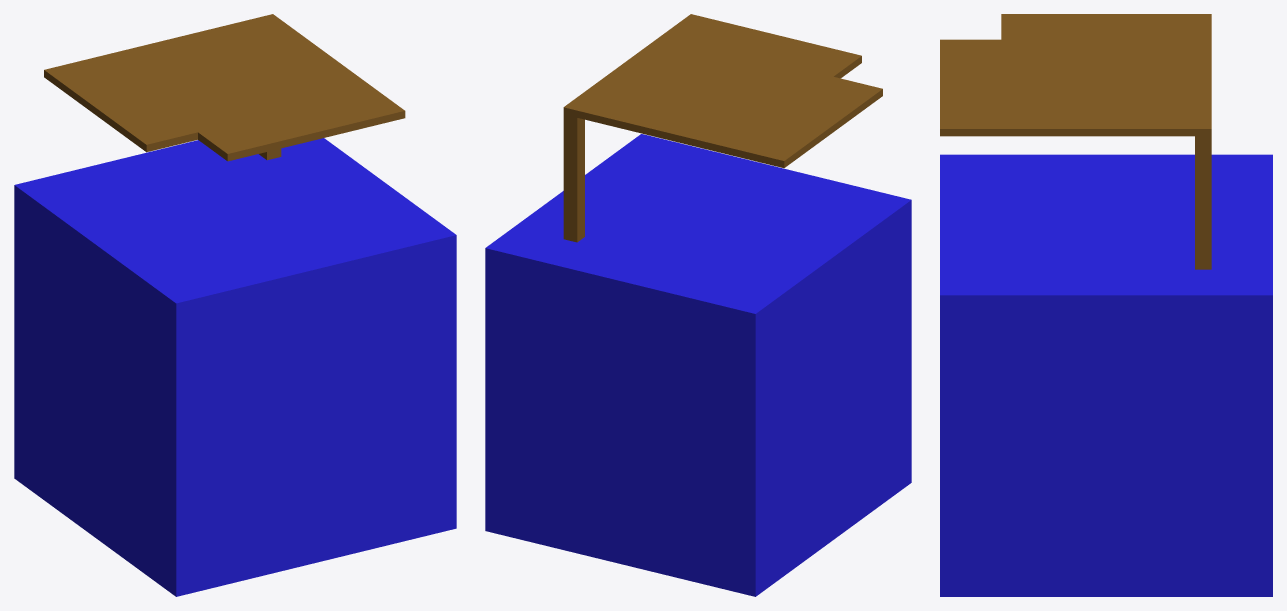
The model's file is CornerTable.fbx.
3 views of the same model, side by side, from view 1: azimuth 30°, elevation 25°; view 2: azimuth 150°, elevation 25°; view 3: azimuth 270°, elevation 25° (orthographic). The views are drawn at different scales.
Visible parts, largest first — view 1: Box256, tablecorner_lowpoly; view 2: Box256, tablecorner_lowpoly; view 3: Box256, tablecorner_lowpoly.
Boxes of the visible parts, x1,y1,x2,y2 form: Box256: (14,138,456,596); tablecorner_lowpoly: (44,14,405,161); Box256: (485,134,911,596); tablecorner_lowpoly: (563,14,882,242); Box256: (940,154,1272,596); tablecorner_lowpoly: (940,14,1211,269).
Bounding box in the file's own units: 39.5 × 57.92 × 39.5.
